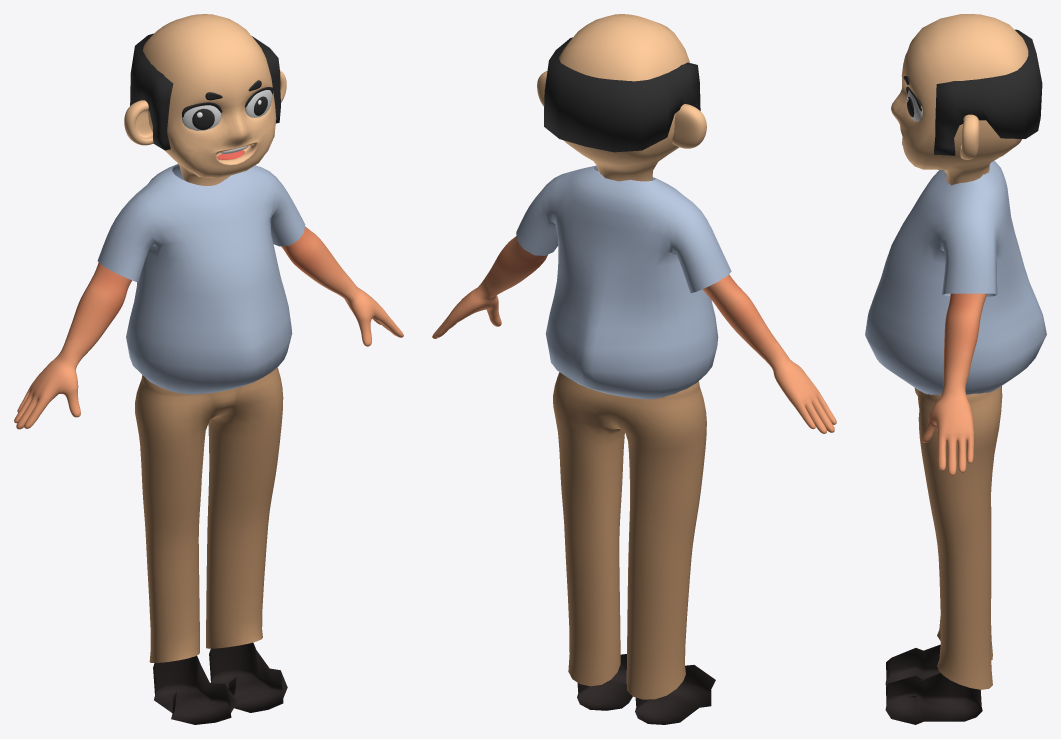
Rendered from teacher.fbx.
3 renders of one model, left to right at view 1: azimuth 30°, elevation 25°; view 2: azimuth 150°, elevation 25°; view 3: azimuth 270°, elevation 25°, orthographic. The views are drawn at different scales.
Visible parts, largest first — view 1: 上衣, 褲子, 人頭, 手, Shoes, Hair, 右耳, 眼珠; view 2: 褲子, 上衣, Hair, 人頭, 手, Shoes, 右耳; view 3: 上衣, 褲子, 人頭, Hair, 手, Shoes, 左耳.
Boxes of the visible parts, x1,y1,x2,y2 form: 上衣: [97, 164, 305, 394]; 褲子: [135, 367, 283, 662]; 人頭: [140, 14, 276, 185]; 手: [14, 226, 403, 429]; Shoes: [153, 642, 287, 724]; Hair: [130, 33, 280, 150]; 右耳: [124, 100, 153, 145]; 眼珠: [182, 90, 272, 130]; 褲子: [553, 372, 706, 699]; 上衣: [516, 165, 731, 399]; Hair: [544, 37, 700, 152]; 人頭: [559, 14, 689, 181]; 手: [432, 236, 836, 433]; Shoes: [577, 654, 715, 724]; 右耳: [672, 104, 706, 148]; 上衣: [865, 161, 1046, 395]; 褲子: [914, 386, 1002, 689]; 人頭: [891, 14, 1028, 185]; Hair: [934, 29, 1042, 155]; 手: [922, 293, 987, 475]; Shoes: [885, 644, 982, 724]; 左耳: [960, 114, 979, 159].
Bounding box in the file's own units: 399 × 659 × 160.
